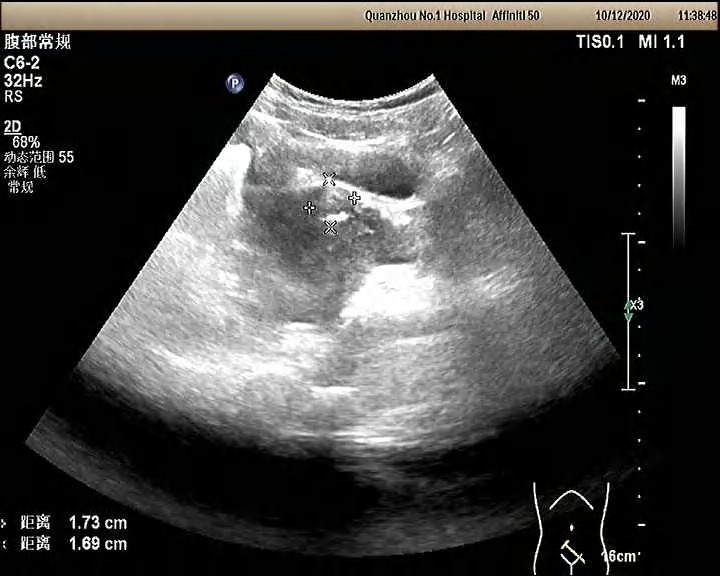肌瘤: (308, 178, 355, 227)
